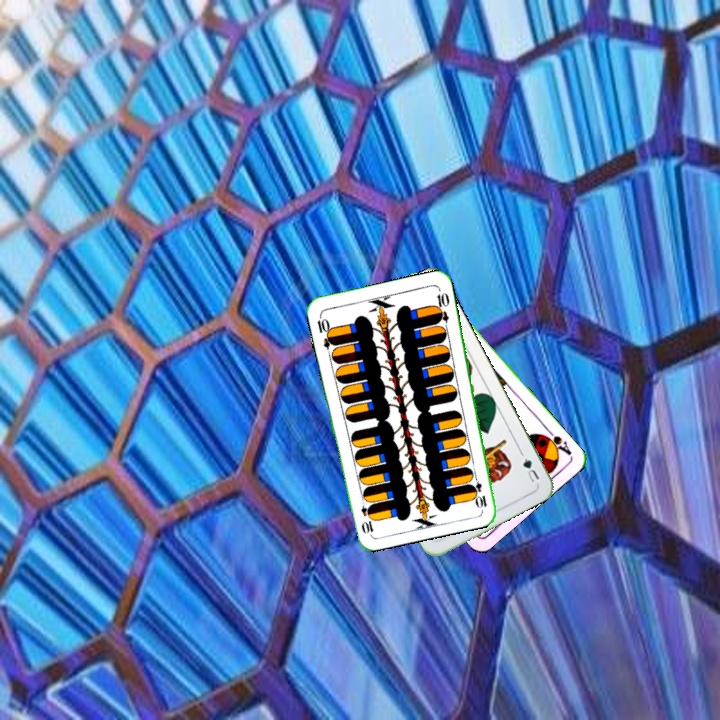E10: (313, 311, 337, 351), (469, 470, 490, 510)
GU: (519, 454, 542, 485)
SA: (538, 425, 574, 458)
